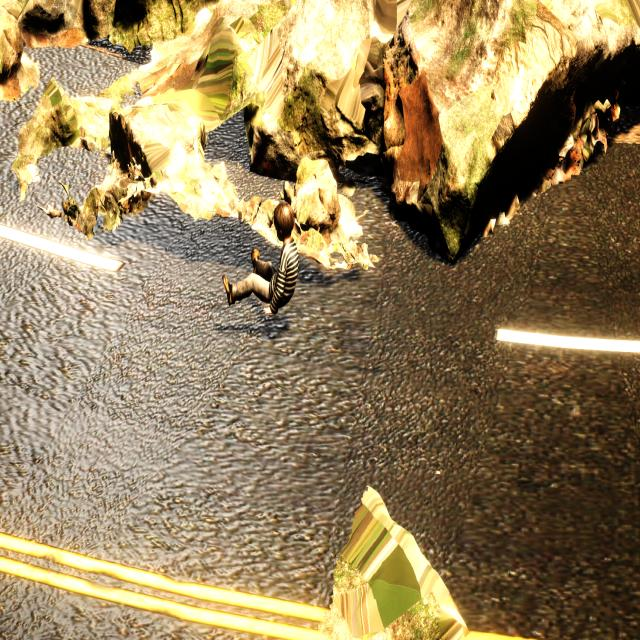Human: (221, 202, 306, 326)
